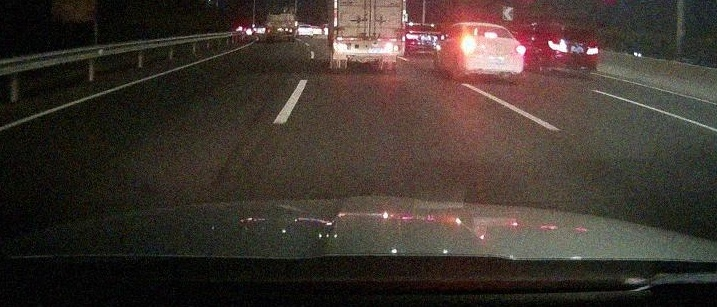L_light: (548, 39, 568, 52), (460, 39, 476, 52)
R_light: (515, 45, 527, 56), (586, 45, 598, 55)
T_light: (483, 32, 497, 38), (571, 32, 580, 34)
night-left: (457, 22, 527, 84)
night-no: (546, 31, 599, 74)
